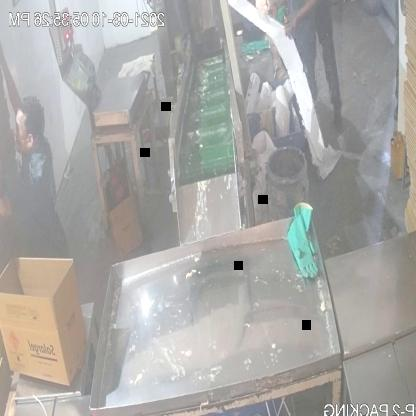no_glove: (0, 27, 35, 144), (277, 0, 331, 47)
